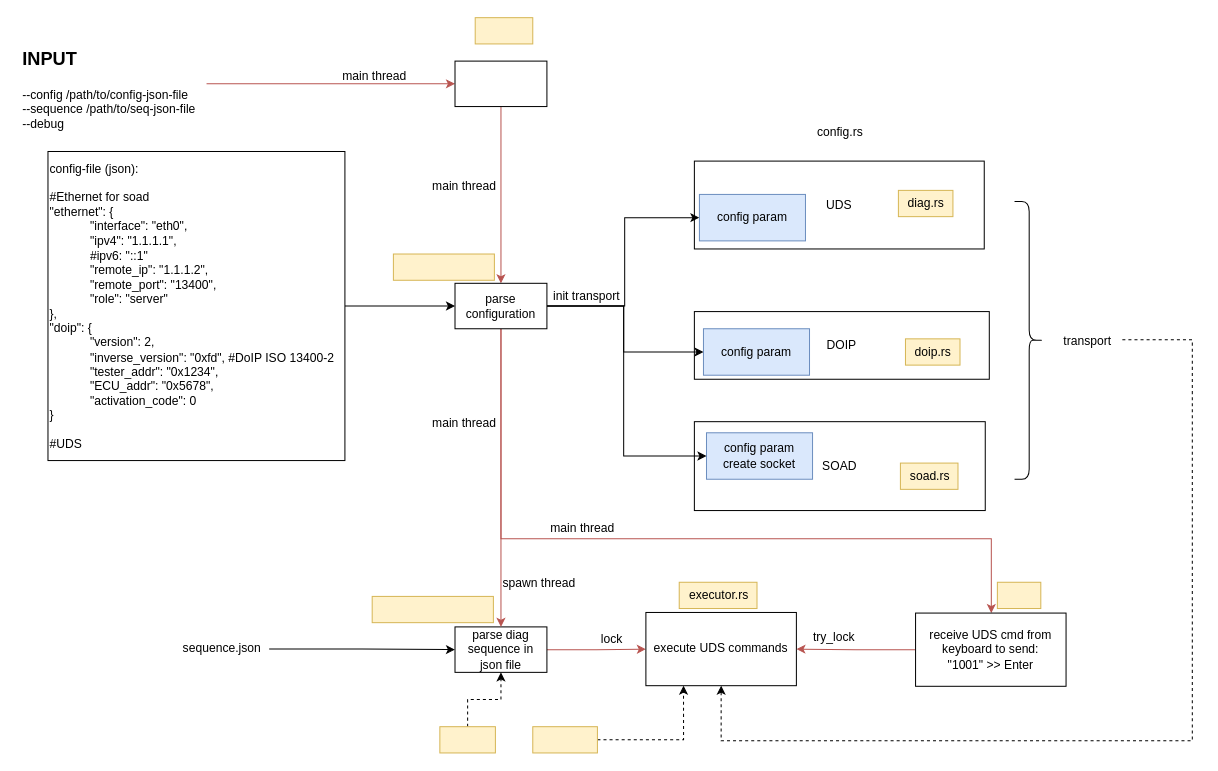
Image size: 1218x771. Some labels were removed from this diagram. Here are the shapes that lost their labels. From the top down, the centre of each, then its label:
At [503,30]: "main.rs".
At [500,83]: "parse cli".
At [443,266]: "parse_config.rs".
At [432,609]: "parse_sequence.rs".
At [1018,595]: "cli.rs".
At [467,739]: "swdl.rs".
At [564,739]: "crypto.rs".
